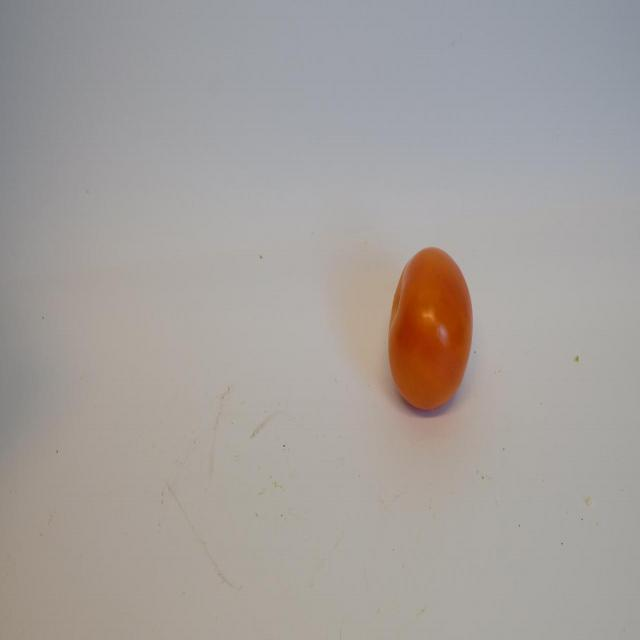tomato: (388, 245, 474, 411)
